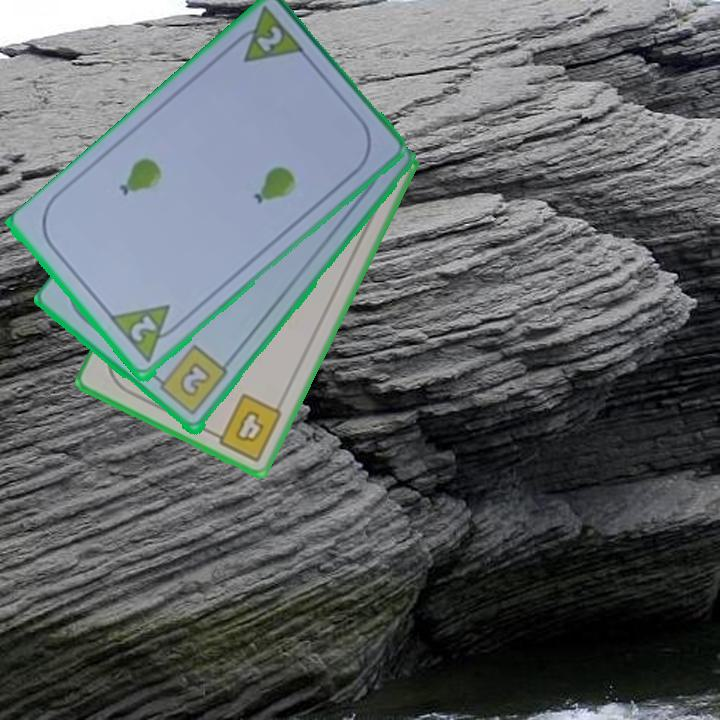2b: (150, 342, 231, 419)
2p: (107, 301, 186, 367), (225, 5, 309, 67)
4b: (206, 390, 286, 465)
